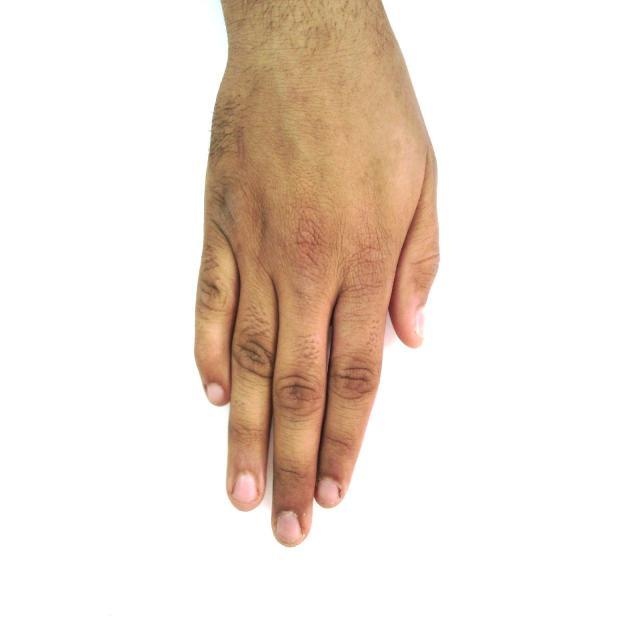Fingernail: (276, 512, 302, 544), (234, 474, 258, 502), (318, 479, 339, 506), (208, 384, 224, 404), (416, 310, 425, 335)
